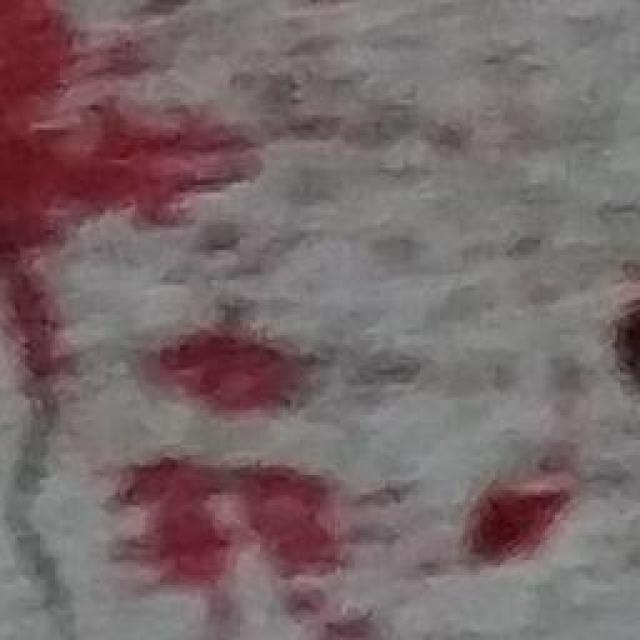Longitudinal: (0, 278, 119, 639)
Rippled: (139, 0, 640, 640)
